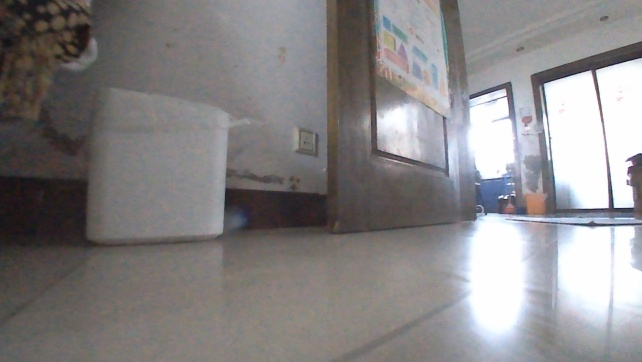blanket: (505, 213, 641, 229)
door_anno: (320, 0, 479, 235)
